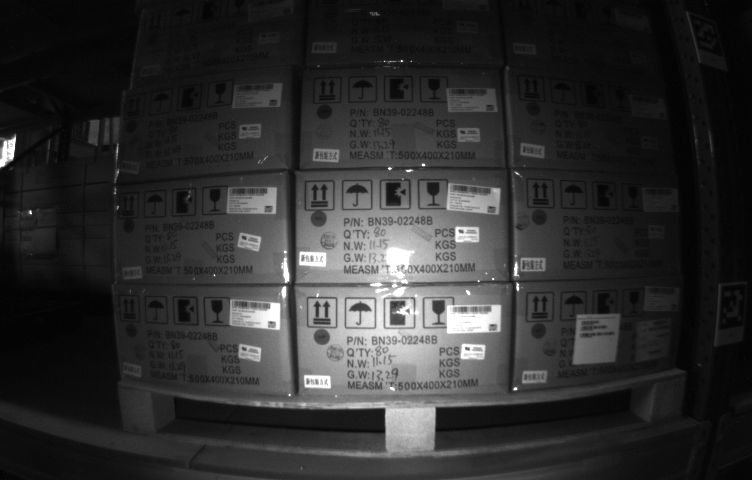True Barcode: (634, 316, 670, 360)
